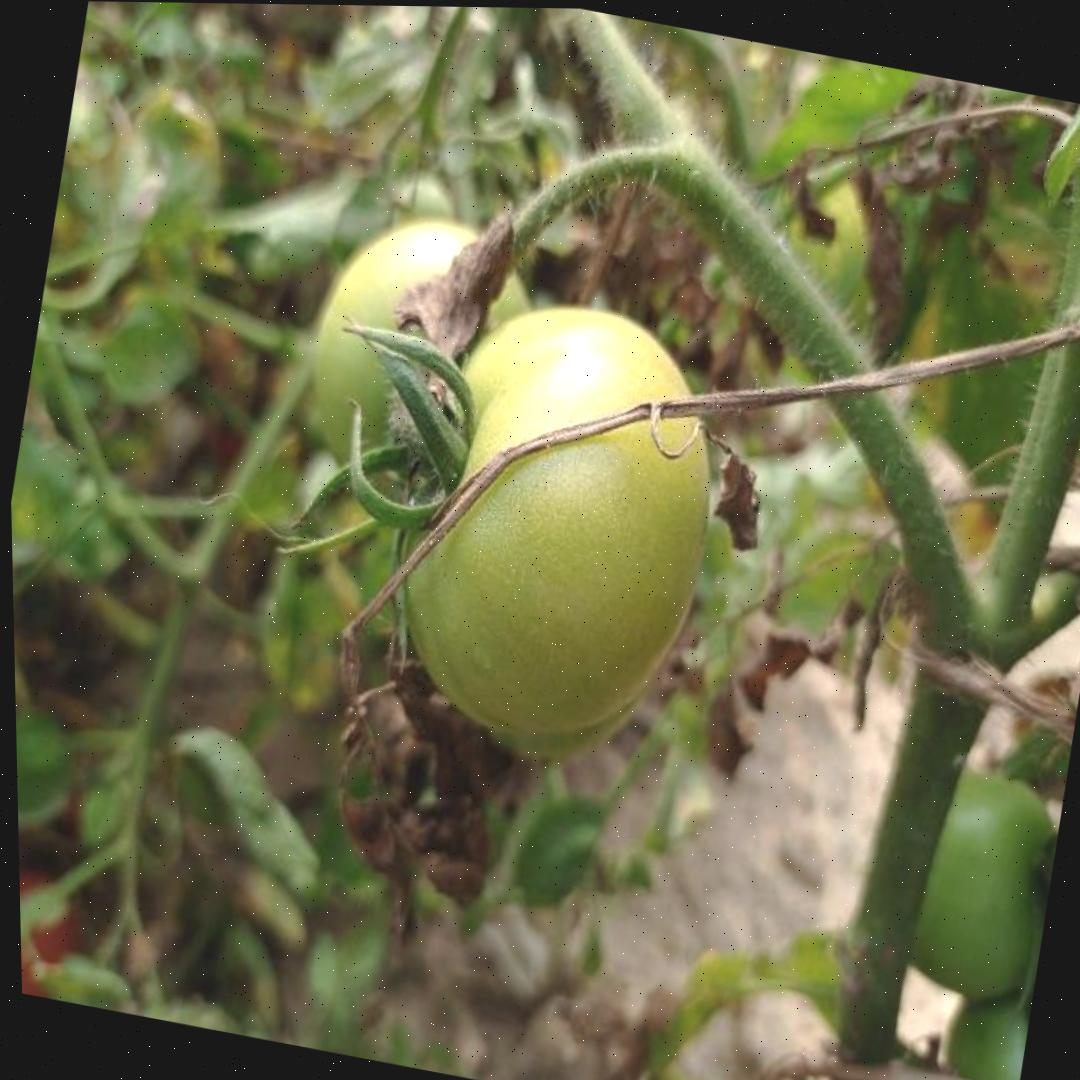mentah: (365, 277, 748, 764)
